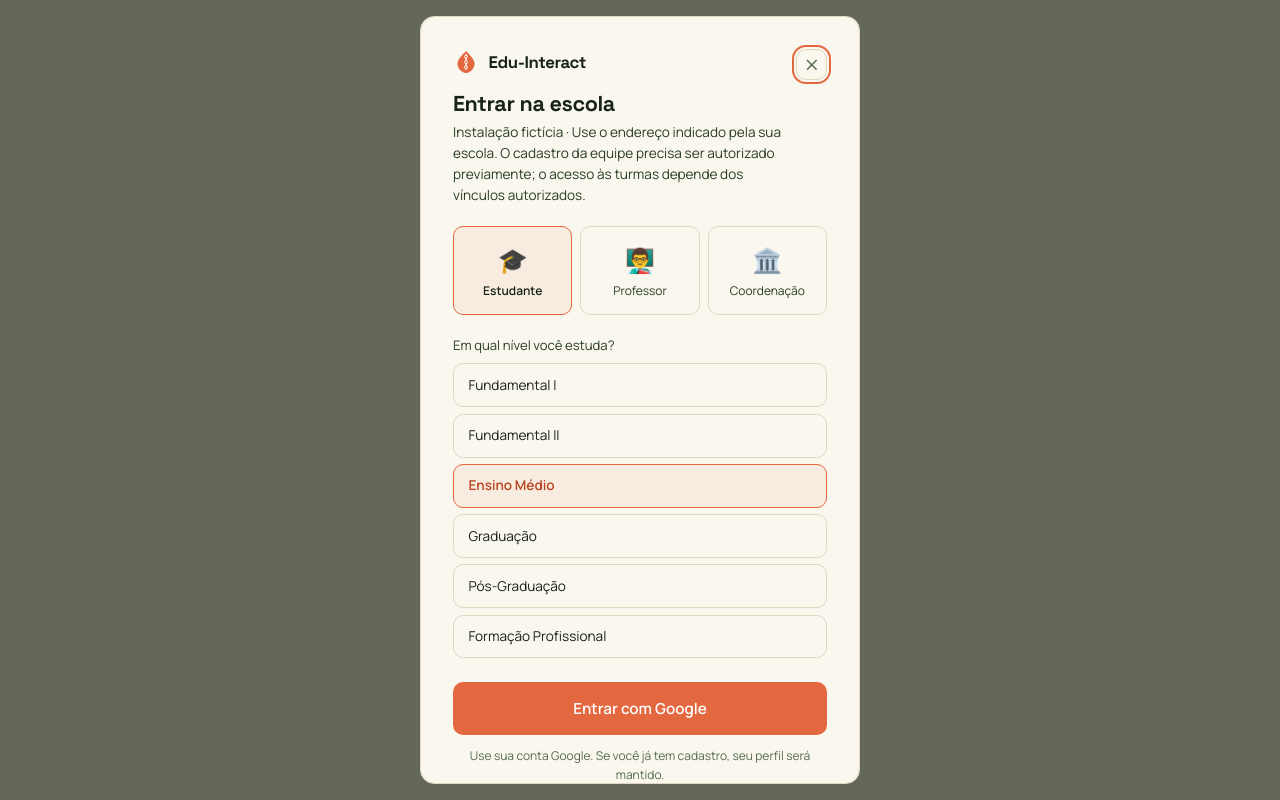
Test case: instalação school sem política confirmada não abre Google nem grava perfil
What coordinates should you click on to do the following:
click the button "Entrar com Google"
I would click on:
 (640, 709)
Its box is x1=453 y1=682 x2=827 y2=735.
(page scrolled)
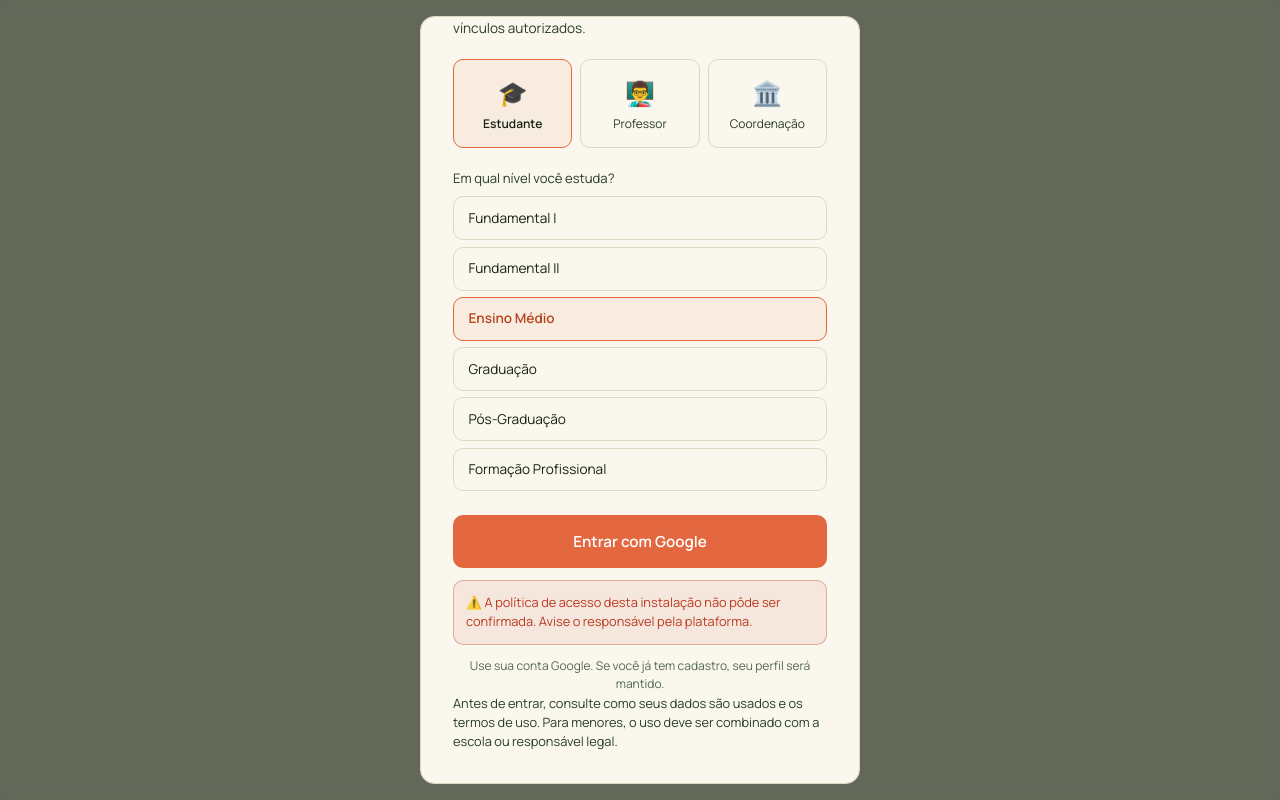
Expected: the text "política de acesso desta instalação não pôde ser confirmada" is shown, x1=466 y1=593 x2=781 y2=630
